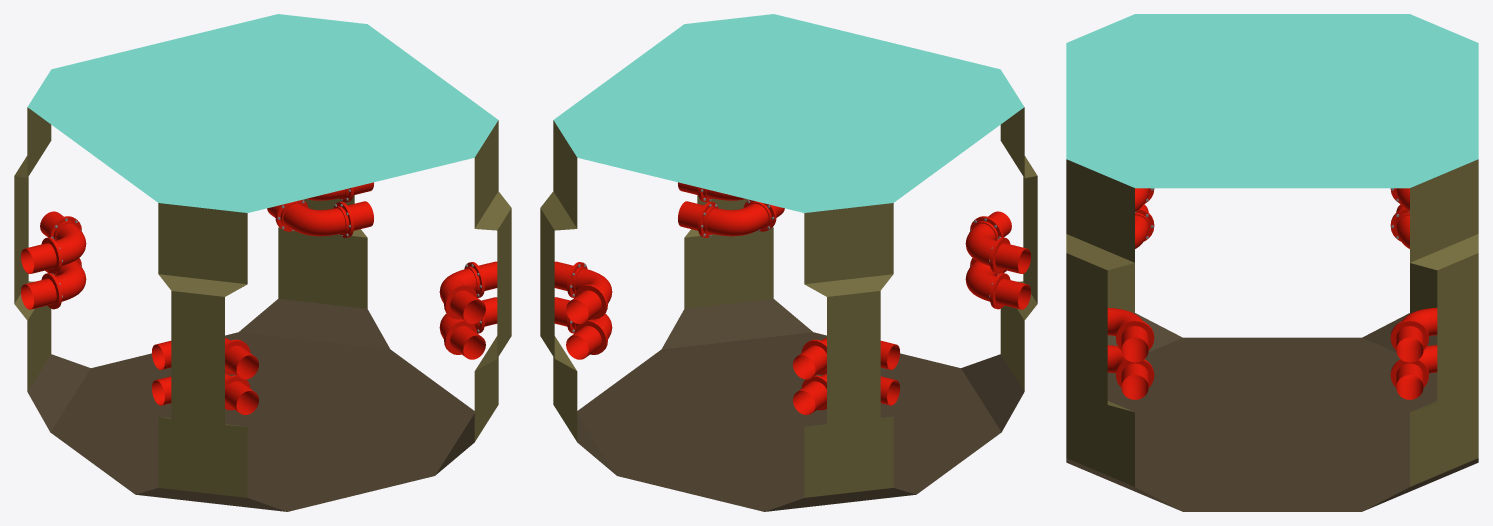
The model's file is Cross_Roads_.fbx.
3 views of the same model, side by side, from view 1: azimuth 30°, elevation 25°; view 2: azimuth 150°, elevation 25°; view 3: azimuth 270°, elevation 25° (orthographic). The views are drawn at different scales.
Visible parts, largest first — view 1: Cross_Roads_, Pipe_200_Corner.022, Pipe_200_Corner.019, Pipe_200_Corner.023, Pipe_200_Corner.020, Pipe_200_Corner.024, Pipe_200_Corner.017, Pipe_200_Corner.018; view 2: Cross_Roads_, Pipe_200_Corner.024, Pipe_200_Corner.017, Pipe_200_Corner.021, Pipe_200_Corner.018, Pipe_200_Corner.022, Pipe_200_Corner.019, Pipe_200_Corner.020; view 3: Cross_Roads_, Pipe_200_Corner.021, Pipe_200_Corner.023, Pipe_200_Corner.022, Pipe_200_Corner.024, Pipe_200_Corner.018, Pipe_200_Corner.020.
Boxes of the visible parts, x1,y1,x2,y2 form: Cross_Roads_: (14,14,511,511); Pipe_200_Corner.022: (267,199,373,237); Pipe_200_Corner.019: (21,211,86,273); Pipe_200_Corner.023: (439,261,497,324); Pipe_200_Corner.020: (21,258,86,309); Pipe_200_Corner.024: (439,297,497,359); Pipe_200_Corner.017: (152,338,258,379); Pipe_200_Corner.018: (152,373,258,414); Cross_Roads_: (540,14,1037,511); Pipe_200_Corner.024: (678,199,784,237); Pipe_200_Corner.017: (965,211,1030,273); Pipe_200_Corner.021: (554,261,612,324); Pipe_200_Corner.018: (965,258,1030,309); Pipe_200_Corner.022: (554,297,612,359); Pipe_200_Corner.019: (793,338,899,379); Pipe_200_Corner.020: (793,373,899,414); Cross_Roads_: (1066,14,1478,511); Pipe_200_Corner.021: (1390,307,1437,362); Pipe_200_Corner.023: (1107,307,1154,362); Pipe_200_Corner.022: (1390,345,1437,399); Pipe_200_Corner.024: (1107,345,1154,399); Pipe_200_Corner.018: (1135,204,1154,248); Pipe_200_Corner.020: (1390,204,1409,248).
Bounding box in the file's own units: 3 × 2.6 × 3.
